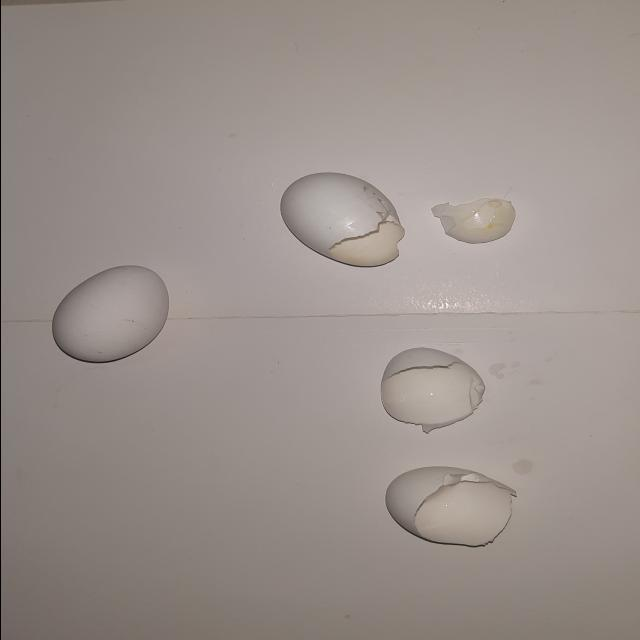egg shell: (270, 168, 405, 272), (43, 262, 175, 368), (378, 460, 518, 554), (373, 343, 493, 438), (429, 189, 523, 247)
